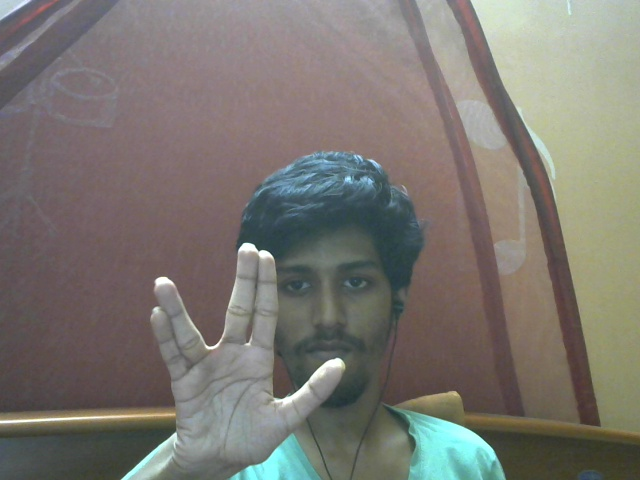LiveLong: (149, 243, 345, 470)
